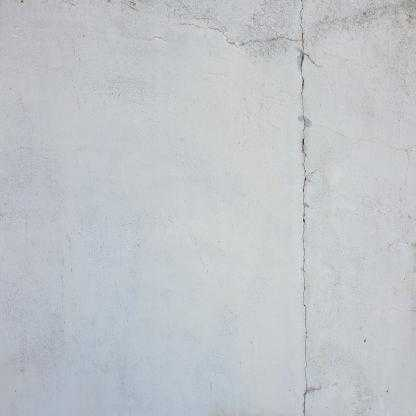crack: (298, 0, 309, 416)
